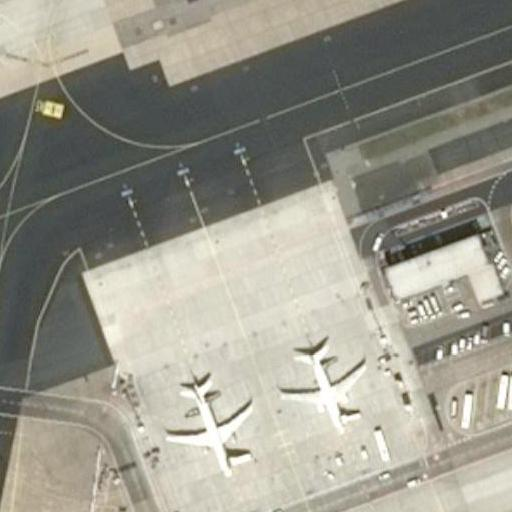Aircraft: (156, 363, 257, 479), (276, 328, 376, 438)
